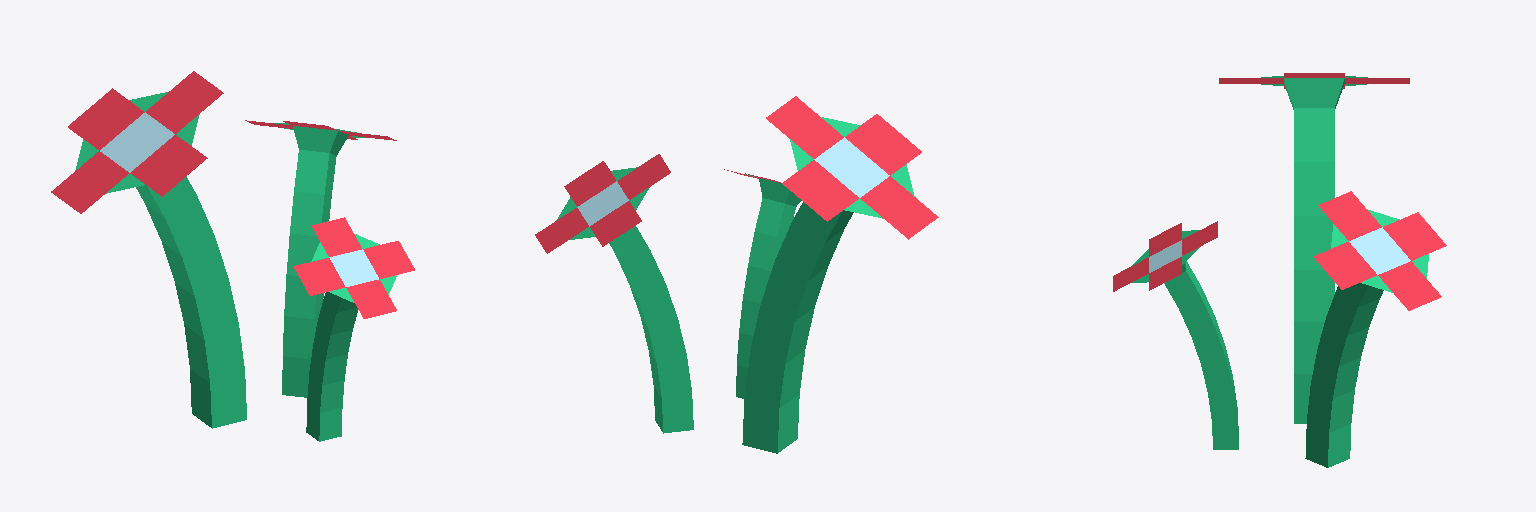
File: flowers.obj
3 renders of one model, left to right at view 1: azimuth 30°, elevation 25°; view 2: azimuth 150°, elevation 25°; view 3: azimuth 270°, elevation 25°, orthographic.
Parts seen in each view (by area): view 1: flowers; view 2: flowers; view 3: flowers.
Part boxes in pixels (left/top/right/bottom): flowers: left=51, top=71, right=414, bottom=441; flowers: left=535, top=96, right=938, bottom=453; flowers: left=1113, top=73, right=1446, bottom=467.
Bounding box in the file's own units: 0.4975 × 0.464 × 0.4168.